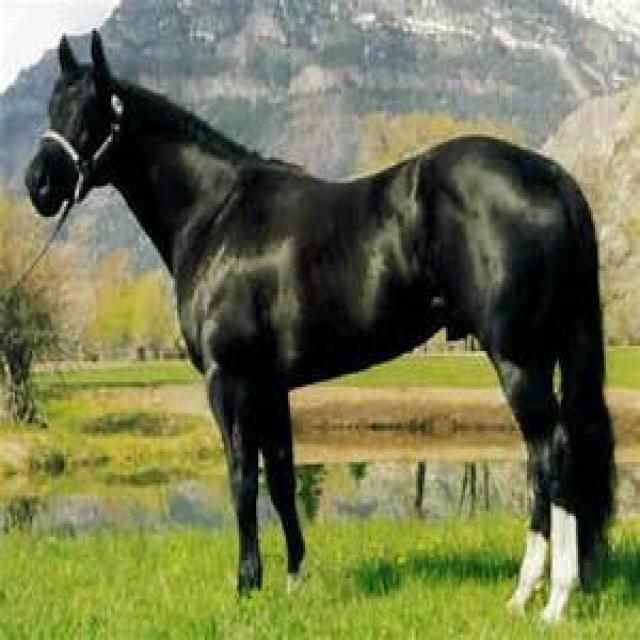horse: (23, 31, 617, 625)
